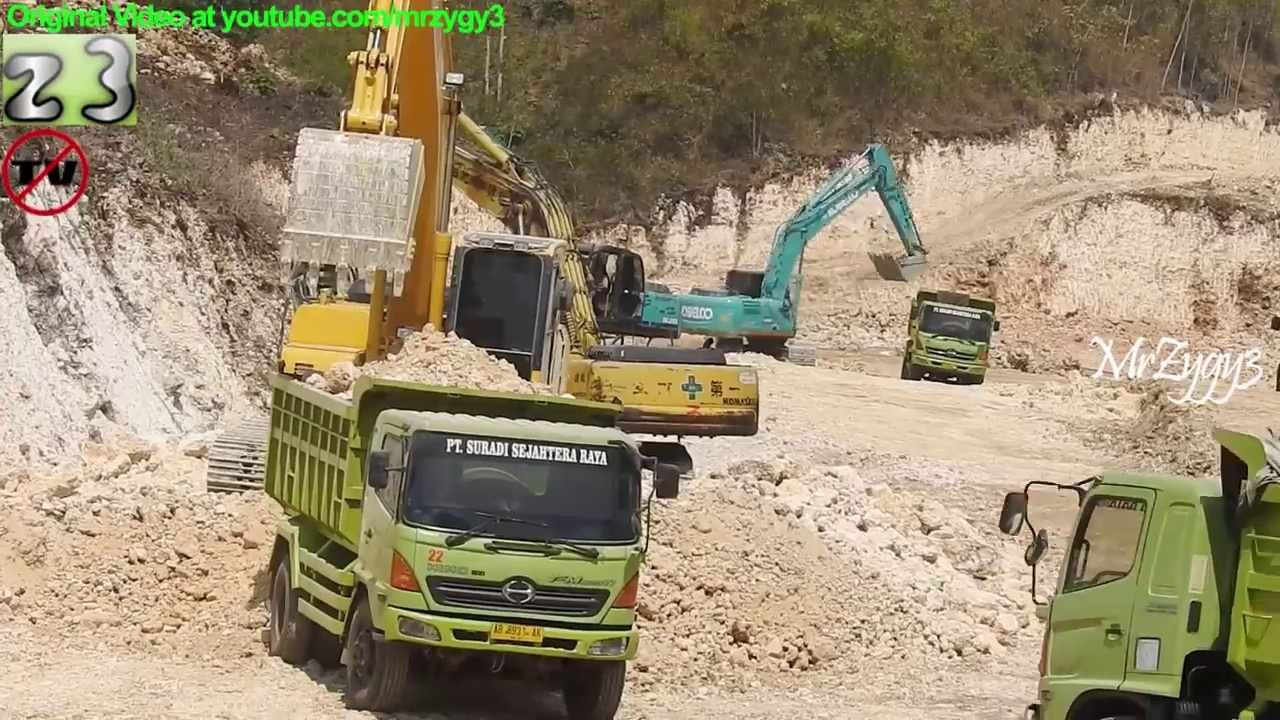excavator: (199, 1, 643, 517), (292, 74, 764, 503), (350, 106, 688, 390), (674, 140, 930, 362)
truck: (261, 368, 685, 720), (992, 424, 1280, 718), (900, 286, 1005, 390)
